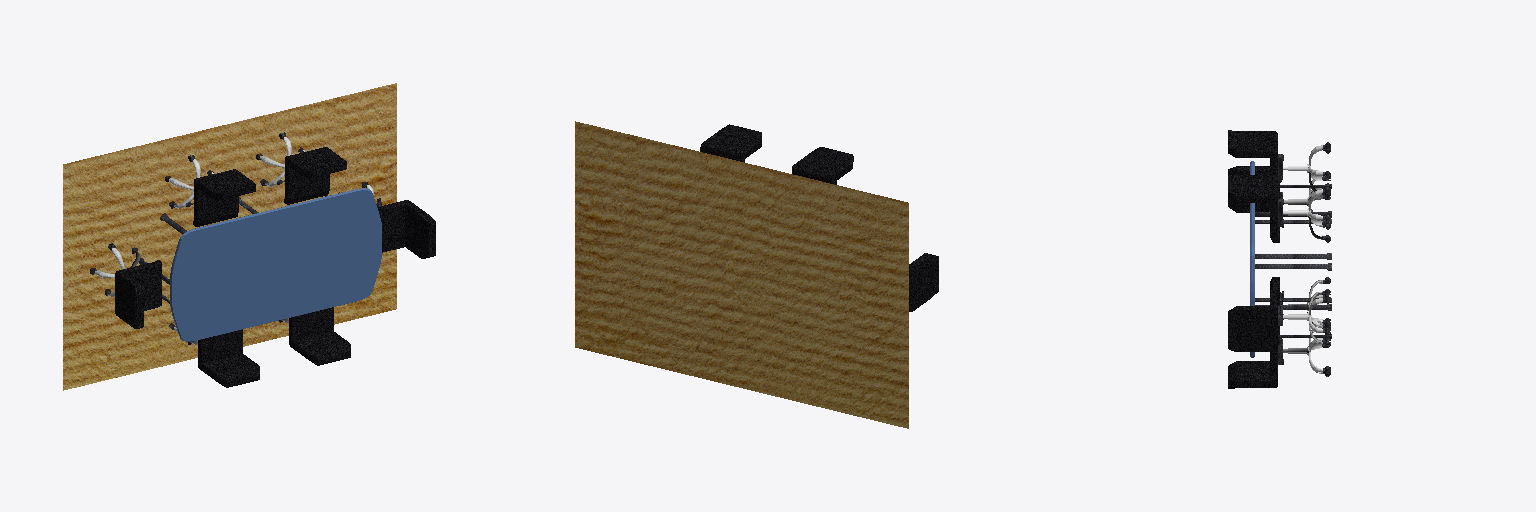
3 renders of one model, left to right at view 1: azimuth 30°, elevation 25°; view 2: azimuth 150°, elevation 25°; view 3: azimuth 270°, elevation 25°, orthographic.
Parts seen in each view (by area): view 1: Plane, Cube_Cube.001, Cube.023, Cube.008_Cube.002, Cube.009_Cube.010, Cube.014_Cube.015, Cube.015_Cube.018, Cube.018_Cube.005; view 2: Plane, Cube.014_Cube.015, Cube.015_Cube.018, Cube.018_Cube.005; view 3: Cube.023, Cube.015_Cube.018, Cube.014_Cube.015, Cube.009_Cube.010, Cube.018_Cube.005, Cube_Cube.001.
Boxes of the visible parts, box(x1,y1,x2,y2) form: Plane: box(63, 83, 396, 390); Cube_Cube.001: box(170, 188, 381, 341); Cube.023: box(377, 200, 435, 258); Cube.008_Cube.002: box(198, 329, 259, 387); Cube.009_Cube.010: box(289, 307, 350, 365); Cube.014_Cube.015: box(193, 169, 255, 226); Cube.015_Cube.018: box(284, 147, 346, 204); Cube.018_Cube.005: box(115, 260, 161, 328); Plane: box(575, 121, 908, 428); Cube.014_Cube.015: box(792, 147, 853, 184); Cube.015_Cube.018: box(700, 124, 761, 162); Cube.018_Cube.005: box(909, 253, 938, 311); Cube.023: box(1228, 287, 1279, 351); Cube.015_Cube.018: box(1228, 175, 1279, 242); Cube.014_Cube.015: box(1228, 130, 1279, 197); Cube.009_Cube.010: box(1228, 331, 1279, 388); Cube.018_Cube.005: box(1228, 166, 1279, 212); Cube_Cube.001: box(1250, 161, 1254, 357).
Size of the model in its own units: 4.03 by 2.61 by 1.09.
7 materials, 4 textured.